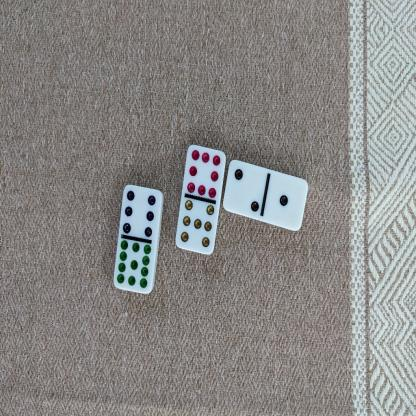pip-1: (264, 173, 308, 231)
pip-11: (112, 238, 154, 293)
pip-2: (224, 159, 266, 216)
pip-6: (120, 183, 161, 237)
pip-7: (174, 195, 216, 256)
pip-8: (185, 144, 225, 198)
